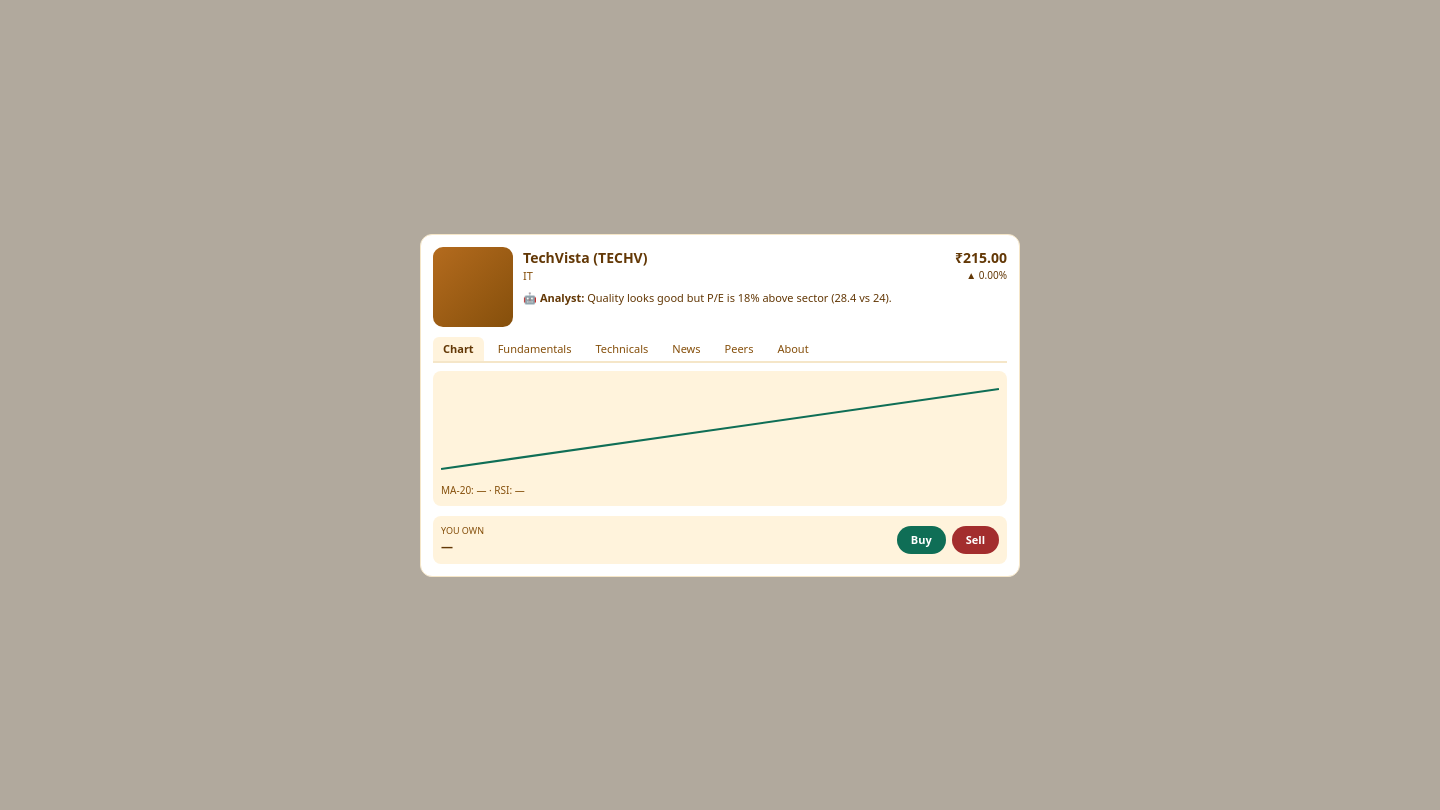
Test: CompanyDrillDown › switches to Fundamentals when clicked
Click the button with test id "drilldown-tab-fundamentals": (535,349) [488,336,582,361]
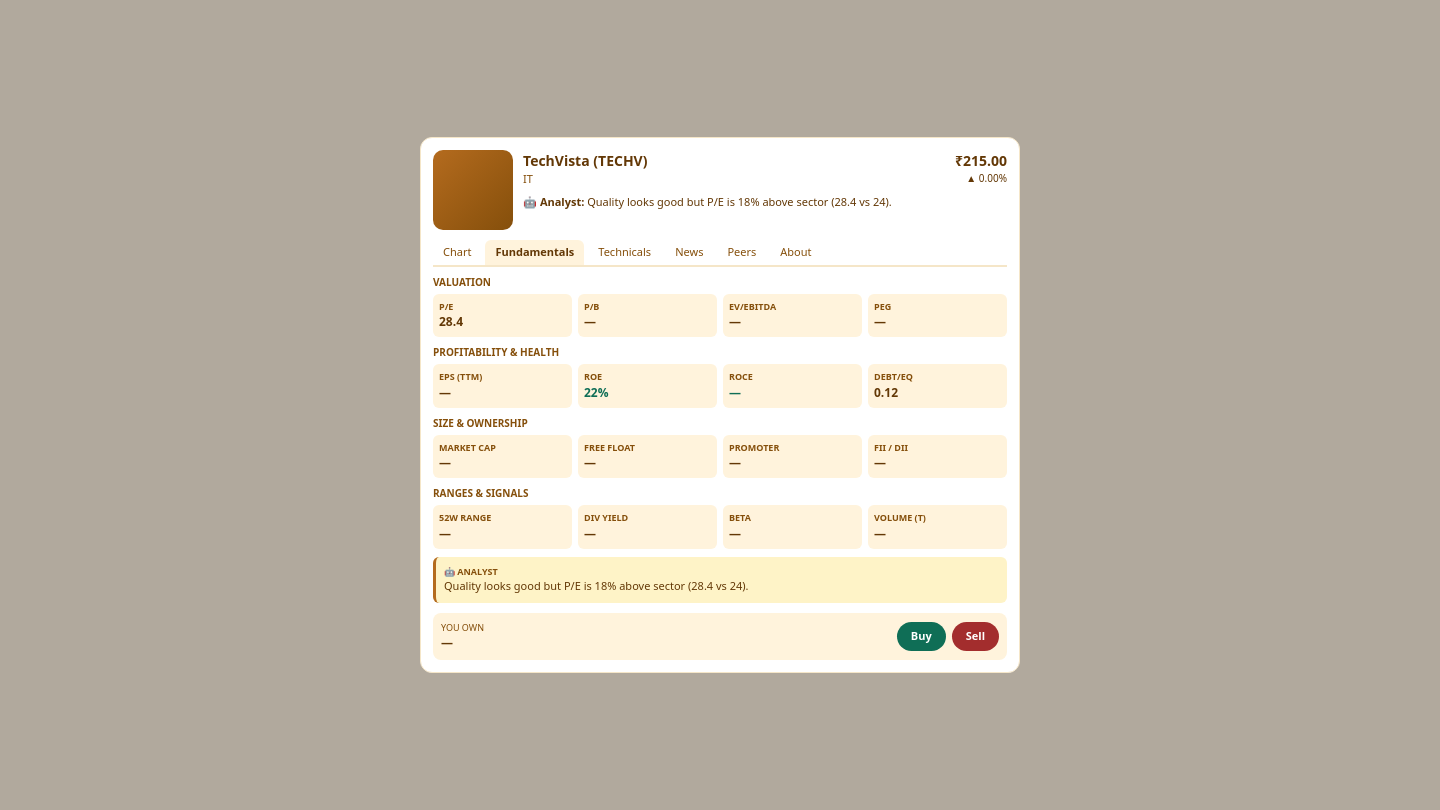
Expected: the text "VALUATION" is shown, [433,274,491,288]
Expected: the text "MA-20" is gone
